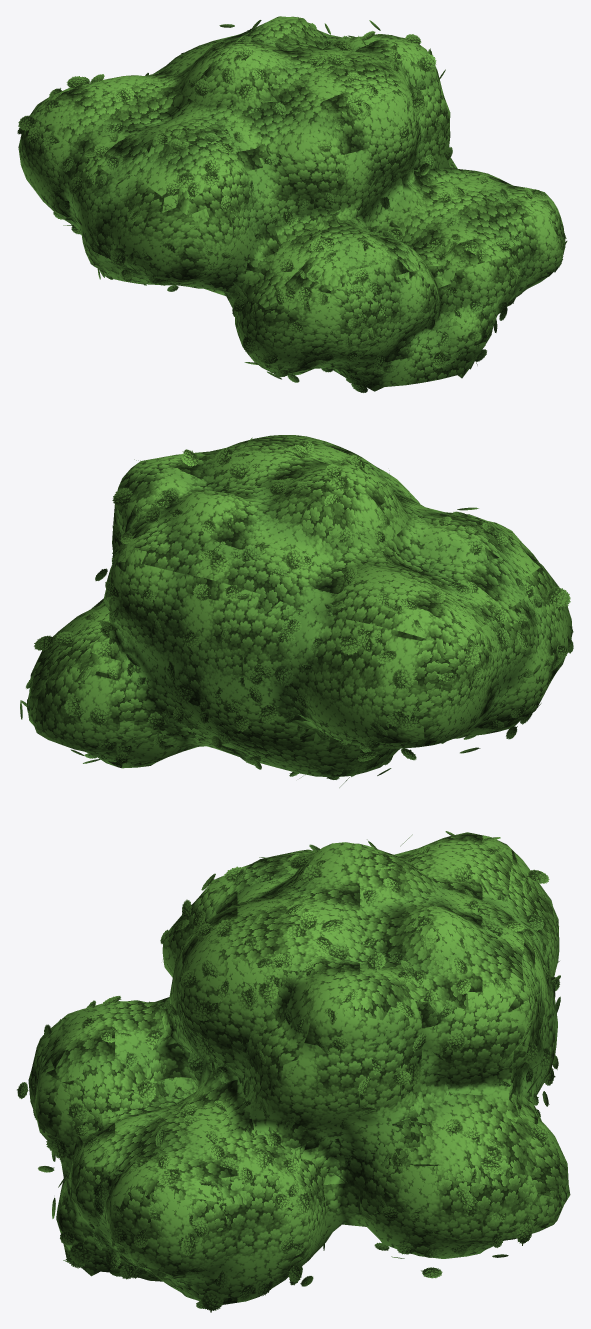
Rendered from ballbush_small.glb.
3 views of the same model, one above another, from view 1: azimuth 30°, elevation 25°; view 2: azimuth 150°, elevation 25°; view 3: azimuth 270°, elevation 25° (orthographic). The views are drawn at different scales.
Visible parts, largest first — view 1: ballbush_small_volume_LOD0, ballbush_small_leaves_LOD0; view 2: ballbush_small_volume_LOD0, ballbush_small_leaves_LOD0; view 3: ballbush_small_volume_LOD0, ballbush_small_leaves_LOD0.
Boxes of the visible parts, left/top/right/bottom form: ballbush_small_volume_LOD0: left=18, top=16, right=565, bottom=391; ballbush_small_leaves_LOD0: left=17, top=17, right=567, bottom=392; ballbush_small_volume_LOD0: left=27, top=435, right=572, bottom=776; ballbush_small_leaves_LOD0: left=20, top=437, right=573, bottom=787; ballbush_small_volume_LOD0: left=28, top=832, right=570, bottom=1304; ballbush_small_leaves_LOD0: left=17, top=831, right=560, bottom=1312.
Size of what is drawn, in the model's own units: 1.28 by 0.8243 by 1.13.
2 materials, 2 textured.
